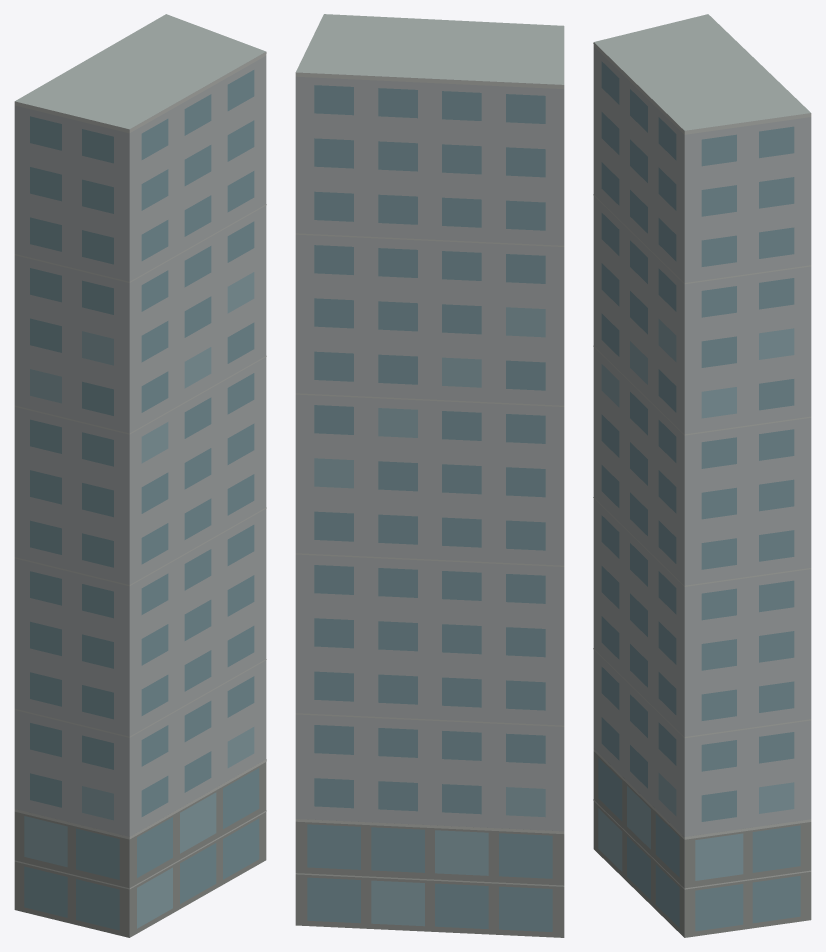
The model's file is survey-upis-32758522.glb.
The picture shows the model from 3 angles, left to right: view 1: azimuth 30°, elevation 25°; view 2: azimuth 150°, elevation 25°; view 3: azimuth 270°, elevation 25°; orthographic projection. The views are drawn at different scales.
Parts seen in each view (by area): view 1: survey-upis-32758522.tmp; view 2: survey-upis-32758522.tmp; view 3: survey-upis-32758522.tmp.
Part boxes in pixels (x1=…): survey-upis-32758522.tmp: x1=14, y1=14, x2=266, y2=937; survey-upis-32758522.tmp: x1=295, y1=14, x2=564, y2=937; survey-upis-32758522.tmp: x1=593, y1=14, x2=811, y2=937.
Size of the model in its own units: 15.17 by 48.8 by 11.95.
